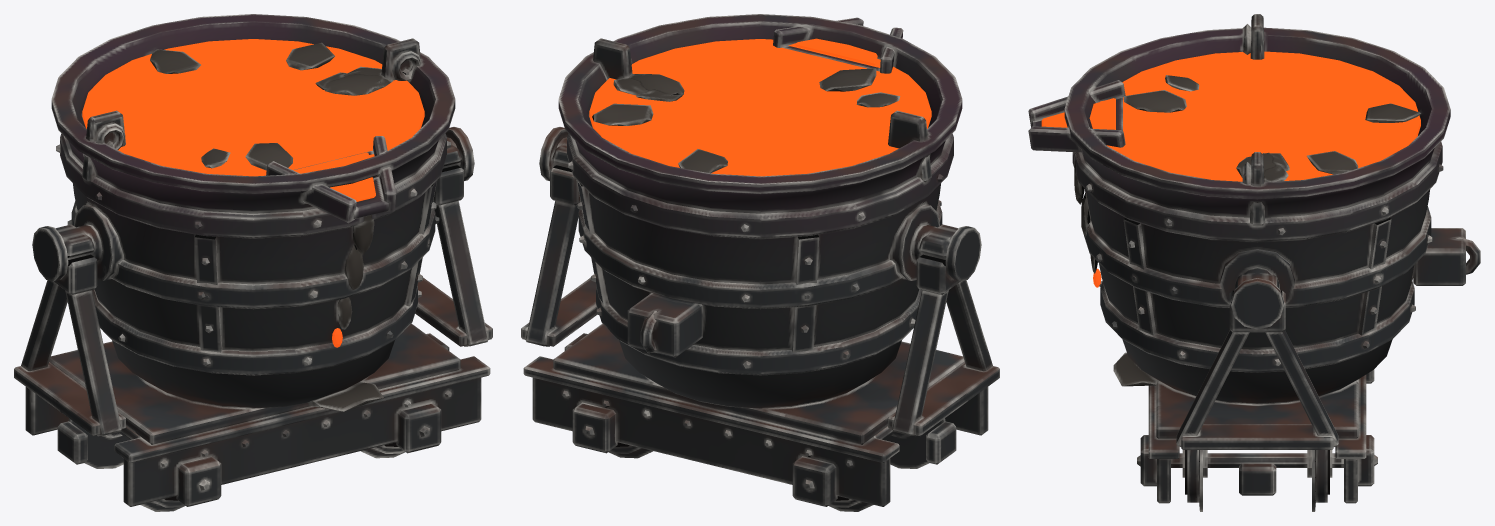
Rendered from foundry_crucible.glb.
The picture shows the model from 3 angles, left to right: view 1: azimuth 30°, elevation 25°; view 2: azimuth 150°, elevation 25°; view 3: azimuth 270°, elevation 25°; orthographic projection. The views are drawn at different scales.
Visible parts, largest first — view 1: foundry_crucible, foundry_crucible_glow; view 2: foundry_crucible, foundry_crucible_glow; view 3: foundry_crucible, foundry_crucible_glow.
Boxes of the visible parts, x1,y1,x2,y2 form: foundry_crucible: (14,14,492,511); foundry_crucible_glow: (82,39,424,347); foundry_crucible: (521,14,999,511); foundry_crucible_glow: (589,38,931,176); foundry_crucible: (1028,14,1480,511); foundry_crucible_glow: (1041,51,1420,287).
Size of the model in its own units: 2.94 by 2.6 by 2.91.
Materials: 3 (1 with a texture image).
